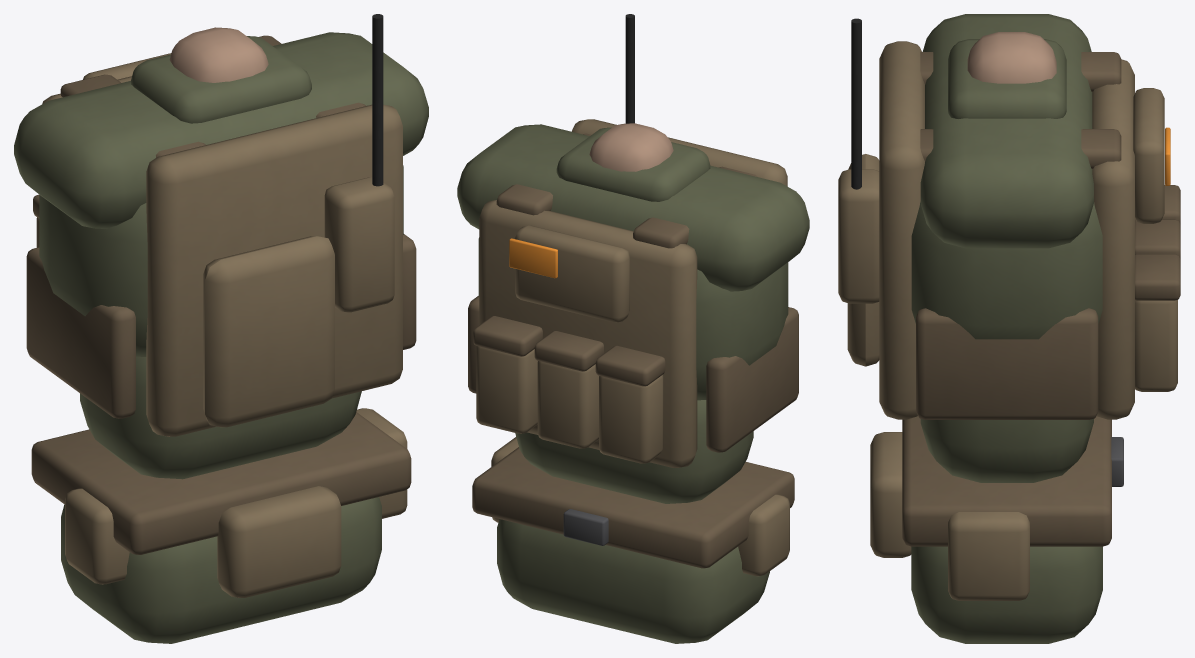
Rendered from SM_OperatorATorso.fbx.
3 renders of one model, left to right at view 1: azimuth 30°, elevation 25°; view 2: azimuth 150°, elevation 25°; view 3: azimuth 270°, elevation 25°, orthographic. The views are drawn at different scales.
Visible parts, largest first — view 1: SM_OperatorATorso; view 2: SM_OperatorATorso; view 3: SM_OperatorATorso.
Part boxes in pixels (<box>): SM_OperatorATorso: <box>14,14,428,643</box>; SM_OperatorATorso: <box>457,14,809,643</box>; SM_OperatorATorso: <box>838,14,1180,643</box>.
Bounding box in the file's own units: 0.45 × 0.745 × 0.375.
1 material, 1 textured.
